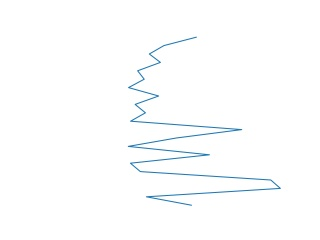crevasseRiverBedLagDeposit: (123, 33, 286, 210)
